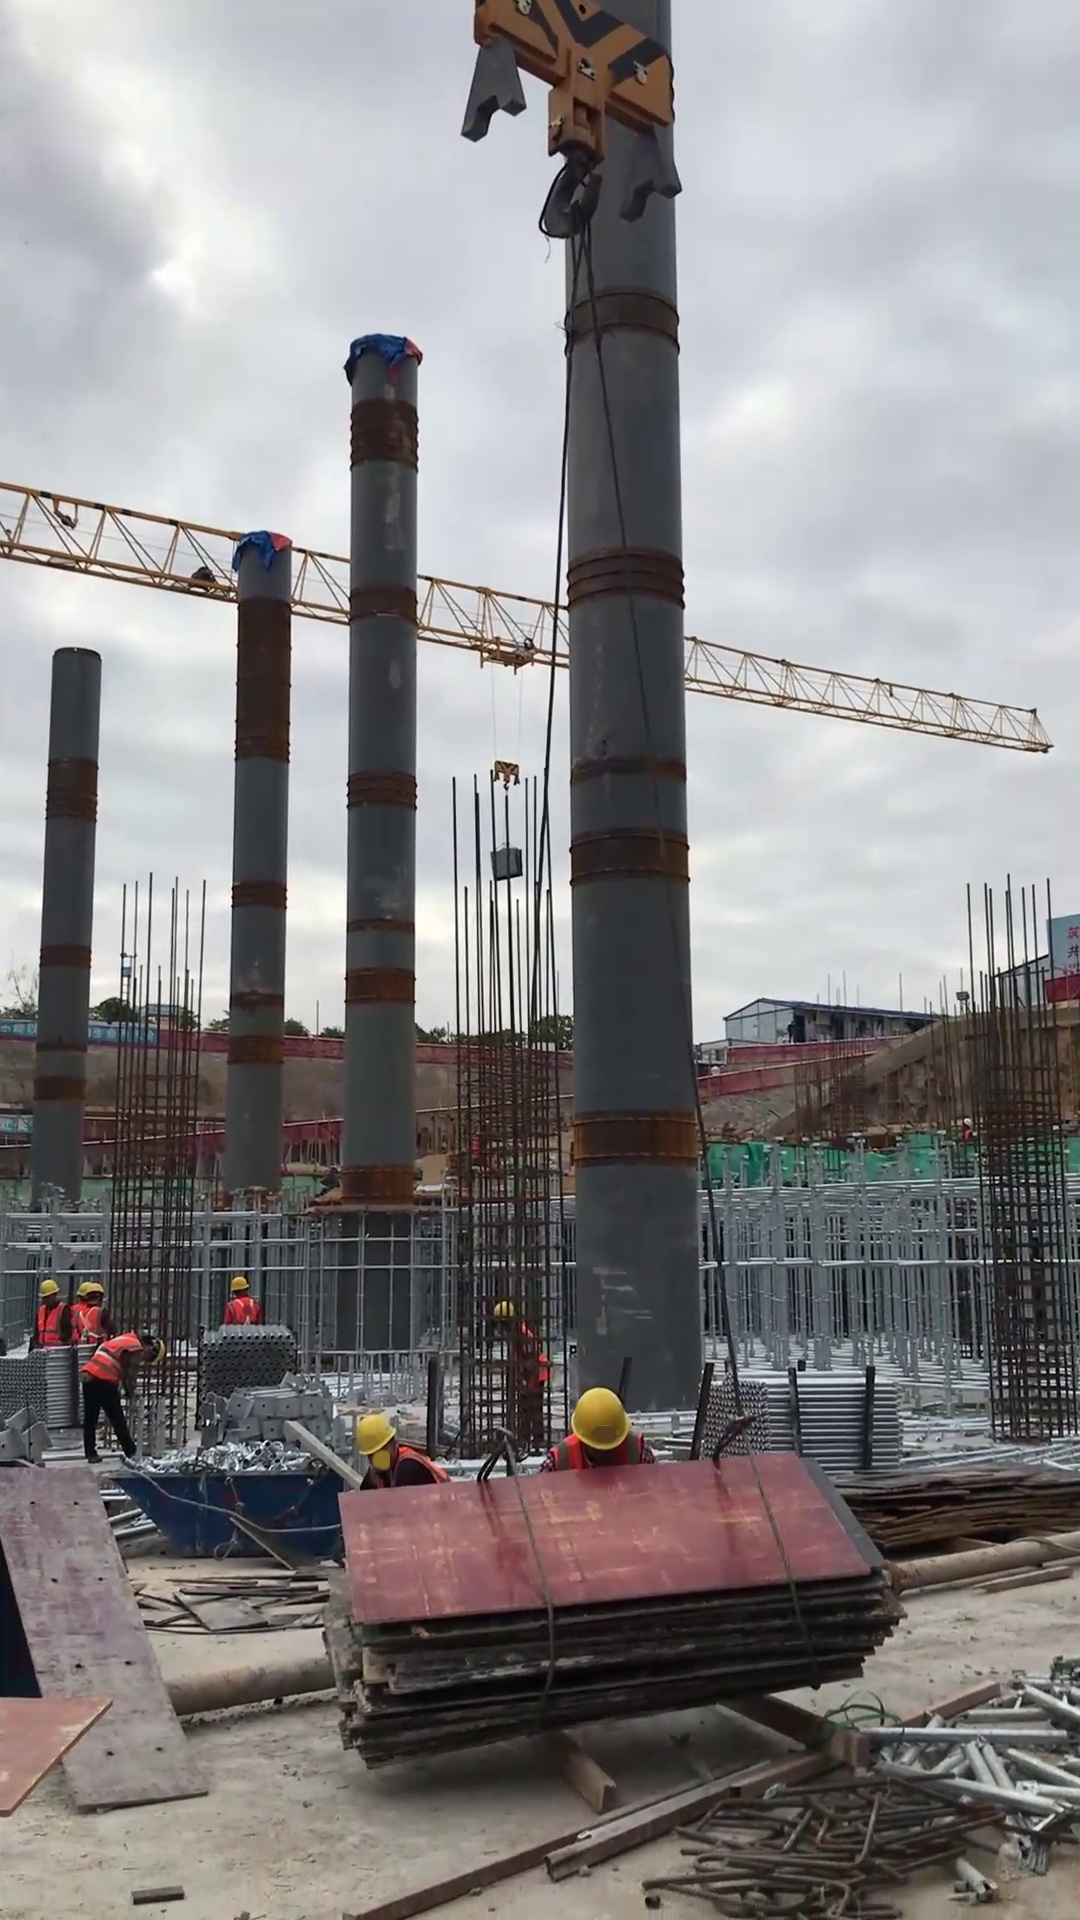board: (336, 1451, 884, 1760), (837, 1461, 1080, 1552)
helmet: (568, 1385, 631, 1453), (353, 1411, 398, 1456), (77, 1277, 107, 1302), (493, 1297, 516, 1324), (150, 1333, 167, 1367), (37, 1279, 60, 1299), (228, 1275, 249, 1292), (963, 1115, 975, 1128)
hook: (458, 1, 684, 241), (492, 758, 521, 792)
hopper: (106, 1468, 356, 1560)
person: (78, 1329, 166, 1465), (532, 1384, 659, 1474), (489, 1297, 552, 1450), (351, 1410, 457, 1490), (30, 1278, 74, 1349), (73, 1279, 116, 1346), (220, 1275, 265, 1326)
scaffold: (691, 1371, 905, 1473), (196, 1325, 302, 1399), (1, 1349, 87, 1430)
slogan: (1, 1019, 157, 1049), (1062, 920, 1080, 974), (1, 1115, 31, 1134)
vest: (550, 1432, 649, 1471), (80, 1327, 144, 1384), (388, 1444, 449, 1487), (510, 1325, 552, 1385), (34, 1301, 69, 1349), (74, 1300, 105, 1346), (224, 1294, 258, 1325)
